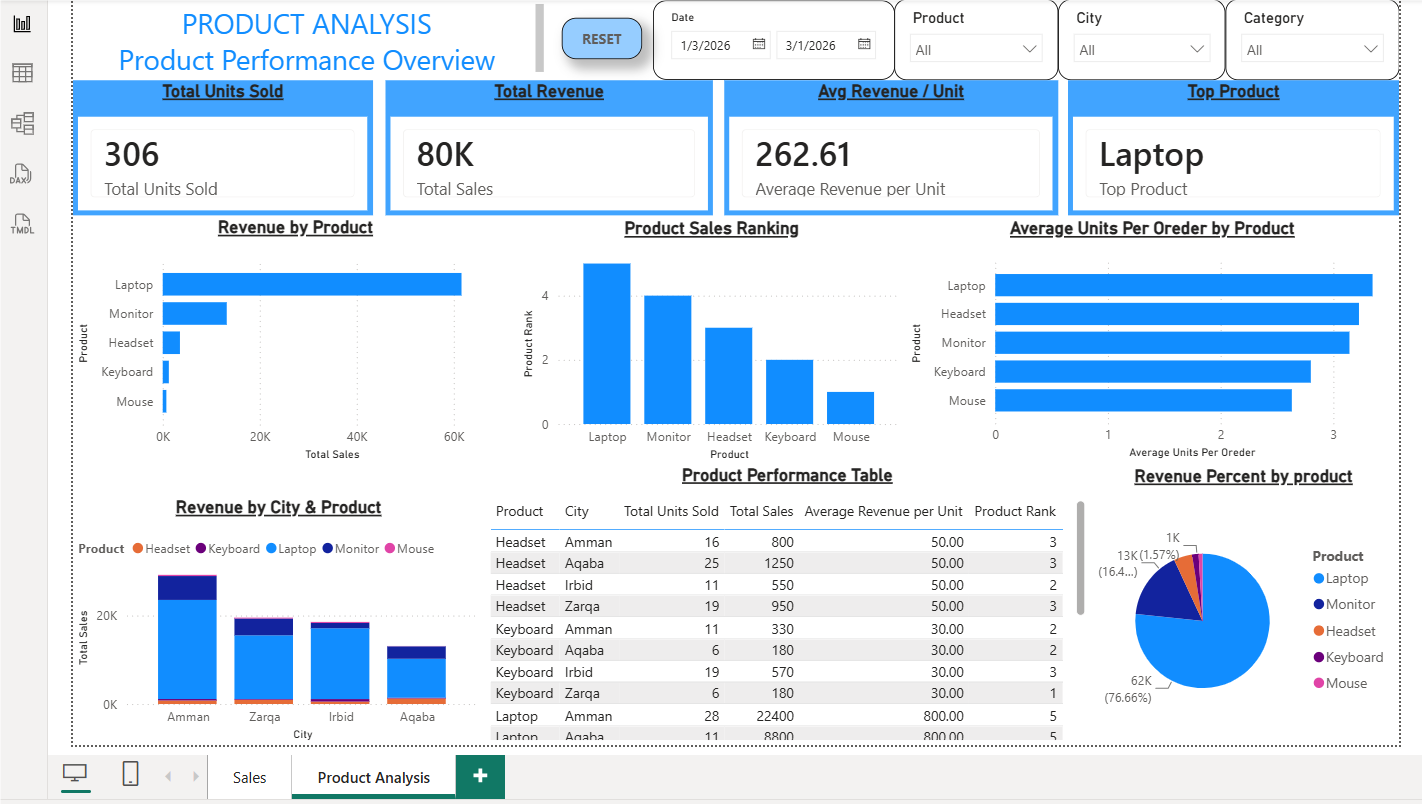

What the dashboard file says about the page in this screenshot:
{"tool":"powerbi","page":{"name":"Product Analysis","canvas":[1280,720],"ordinal":1},"visuals":[{"type":"slicer","fields":{"Values":["Sales.Product"]},"box":[792.6,0,158,78.4],"z":0},{"type":"textbox","box":[0,0,459.1,77.9],"z":1000},{"type":"slicer","fields":{"Values":["Sales.City"]},"box":[950.7,0,161.7,78.4],"z":2000},{"type":"slicer","fields":{"Values":["Sales.Category"]},"box":[1112.3,0,167.7,78.4],"z":3000},{"type":"cardVisual","title":"Total Units Sold","fields":{"Data":["Sales.Total Units Sold"]},"box":[0,78.4,289.5,130.3],"z":4000},{"type":"cardVisual","title":"Total Revenue","fields":{"Data":["Sales.Total Sales"]},"box":[301.6,78.4,316.1,130.3],"z":5000},{"type":"cardVisual","title":"Avg Revenue / Unit","fields":{"Data":["Sales.Average Revenue per Unit"]},"box":[628.6,78.4,322.1,130.3],"z":6000},{"type":"cardVisual","title":"Top Product","fields":{"Data":["Sales.Top Product"]},"box":[960.3,78.4,319.7,130.3],"z":7000},{"type":"clusteredBarChart","title":"Revenue by Product","fields":{"Category":["Sales.Product"],"Y":["Sales.Total Sales"]},"box":[0,209.9,429.5,240.1],"z":8000},{"type":"columnChart","title":"Revenue by City & Product","fields":{"Category":["Sales.City"],"Series":["Sales.Product"],"Y":["Sales.Total Sales"]},"box":[0,480.2,396.9,240.1],"z":9000},{"type":"tableEx","title":"Product Performance Table ","fields":{"Values":["Sales.Product","Sales.City","Sales.Total Units Sold","Sales.Total Sales","Sales.Average Revenue per Unit","Sales.Product Rank"]},"box":[396.9,448.8,585.1,271.4],"z":10000},{"type":"clusteredColumnChart","title":"Product Sales Ranking","fields":{"Category":["Sales.Product"],"Y":["Sales.Product Rank"]},"box":[429.5,211.1,374,238.9],"z":11000},{"type":"pieChart","title":"Revenue Percent by product","fields":{"Category":["Sales.Product"],"Y":["Sales.Total Sales"]},"box":[979.6,450,300.4,270.2],"z":12000},{"type":"slicer","title":"Date","fields":{"Values":["Sales.Date"]},"box":[559.3,1.4,233.7,76.5],"z":13000},{"type":"barChart","fields":{"Category":["Sales.Product"],"Y":["Sales.Average Units Per Oreder"]},"box":[803.5,211.1,476.5,237.7],"z":14000},{"type":"actionButton","title":"RESET","box":[471.7,18.1,77.9,40.3],"z":15000}]}

Visuals, with their boxes on the page's 1280x720 design canvas (x1, y1, x2, y2). These are canvas units, not pixel positions in the 1422x804 screenshot, which may show the page scaled, cropped or inside an application window:
slicer - Sales.Product: box=[793, 0, 951, 78]
textbox: box=[0, 0, 459, 78]
slicer - Sales.City: box=[951, 0, 1112, 78]
slicer - Sales.Category: box=[1112, 0, 1280, 78]
"Total Units Sold" cardVisual: box=[0, 78, 290, 209]
"Total Revenue" cardVisual: box=[302, 78, 618, 209]
"Avg Revenue / Unit" cardVisual: box=[629, 78, 951, 209]
"Top Product" cardVisual: box=[960, 78, 1280, 209]
"Revenue by Product" clusteredBarChart: box=[0, 210, 430, 450]
"Revenue by City & Product" columnChart: box=[0, 480, 397, 720]
"Product Performance Table " tableEx: box=[397, 449, 982, 720]
"Product Sales Ranking" clusteredColumnChart: box=[430, 211, 804, 450]
"Revenue Percent by product" pieChart: box=[980, 450, 1280, 720]
"Date" slicer: box=[559, 1, 793, 78]
barChart - Sales.Product x Sales.Average Units Per Oreder: box=[804, 211, 1280, 449]
"RESET" actionButton: box=[472, 18, 550, 58]
